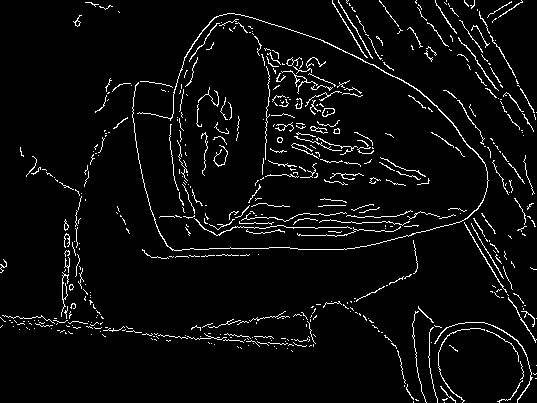cucumber: (157, 10, 492, 243)
